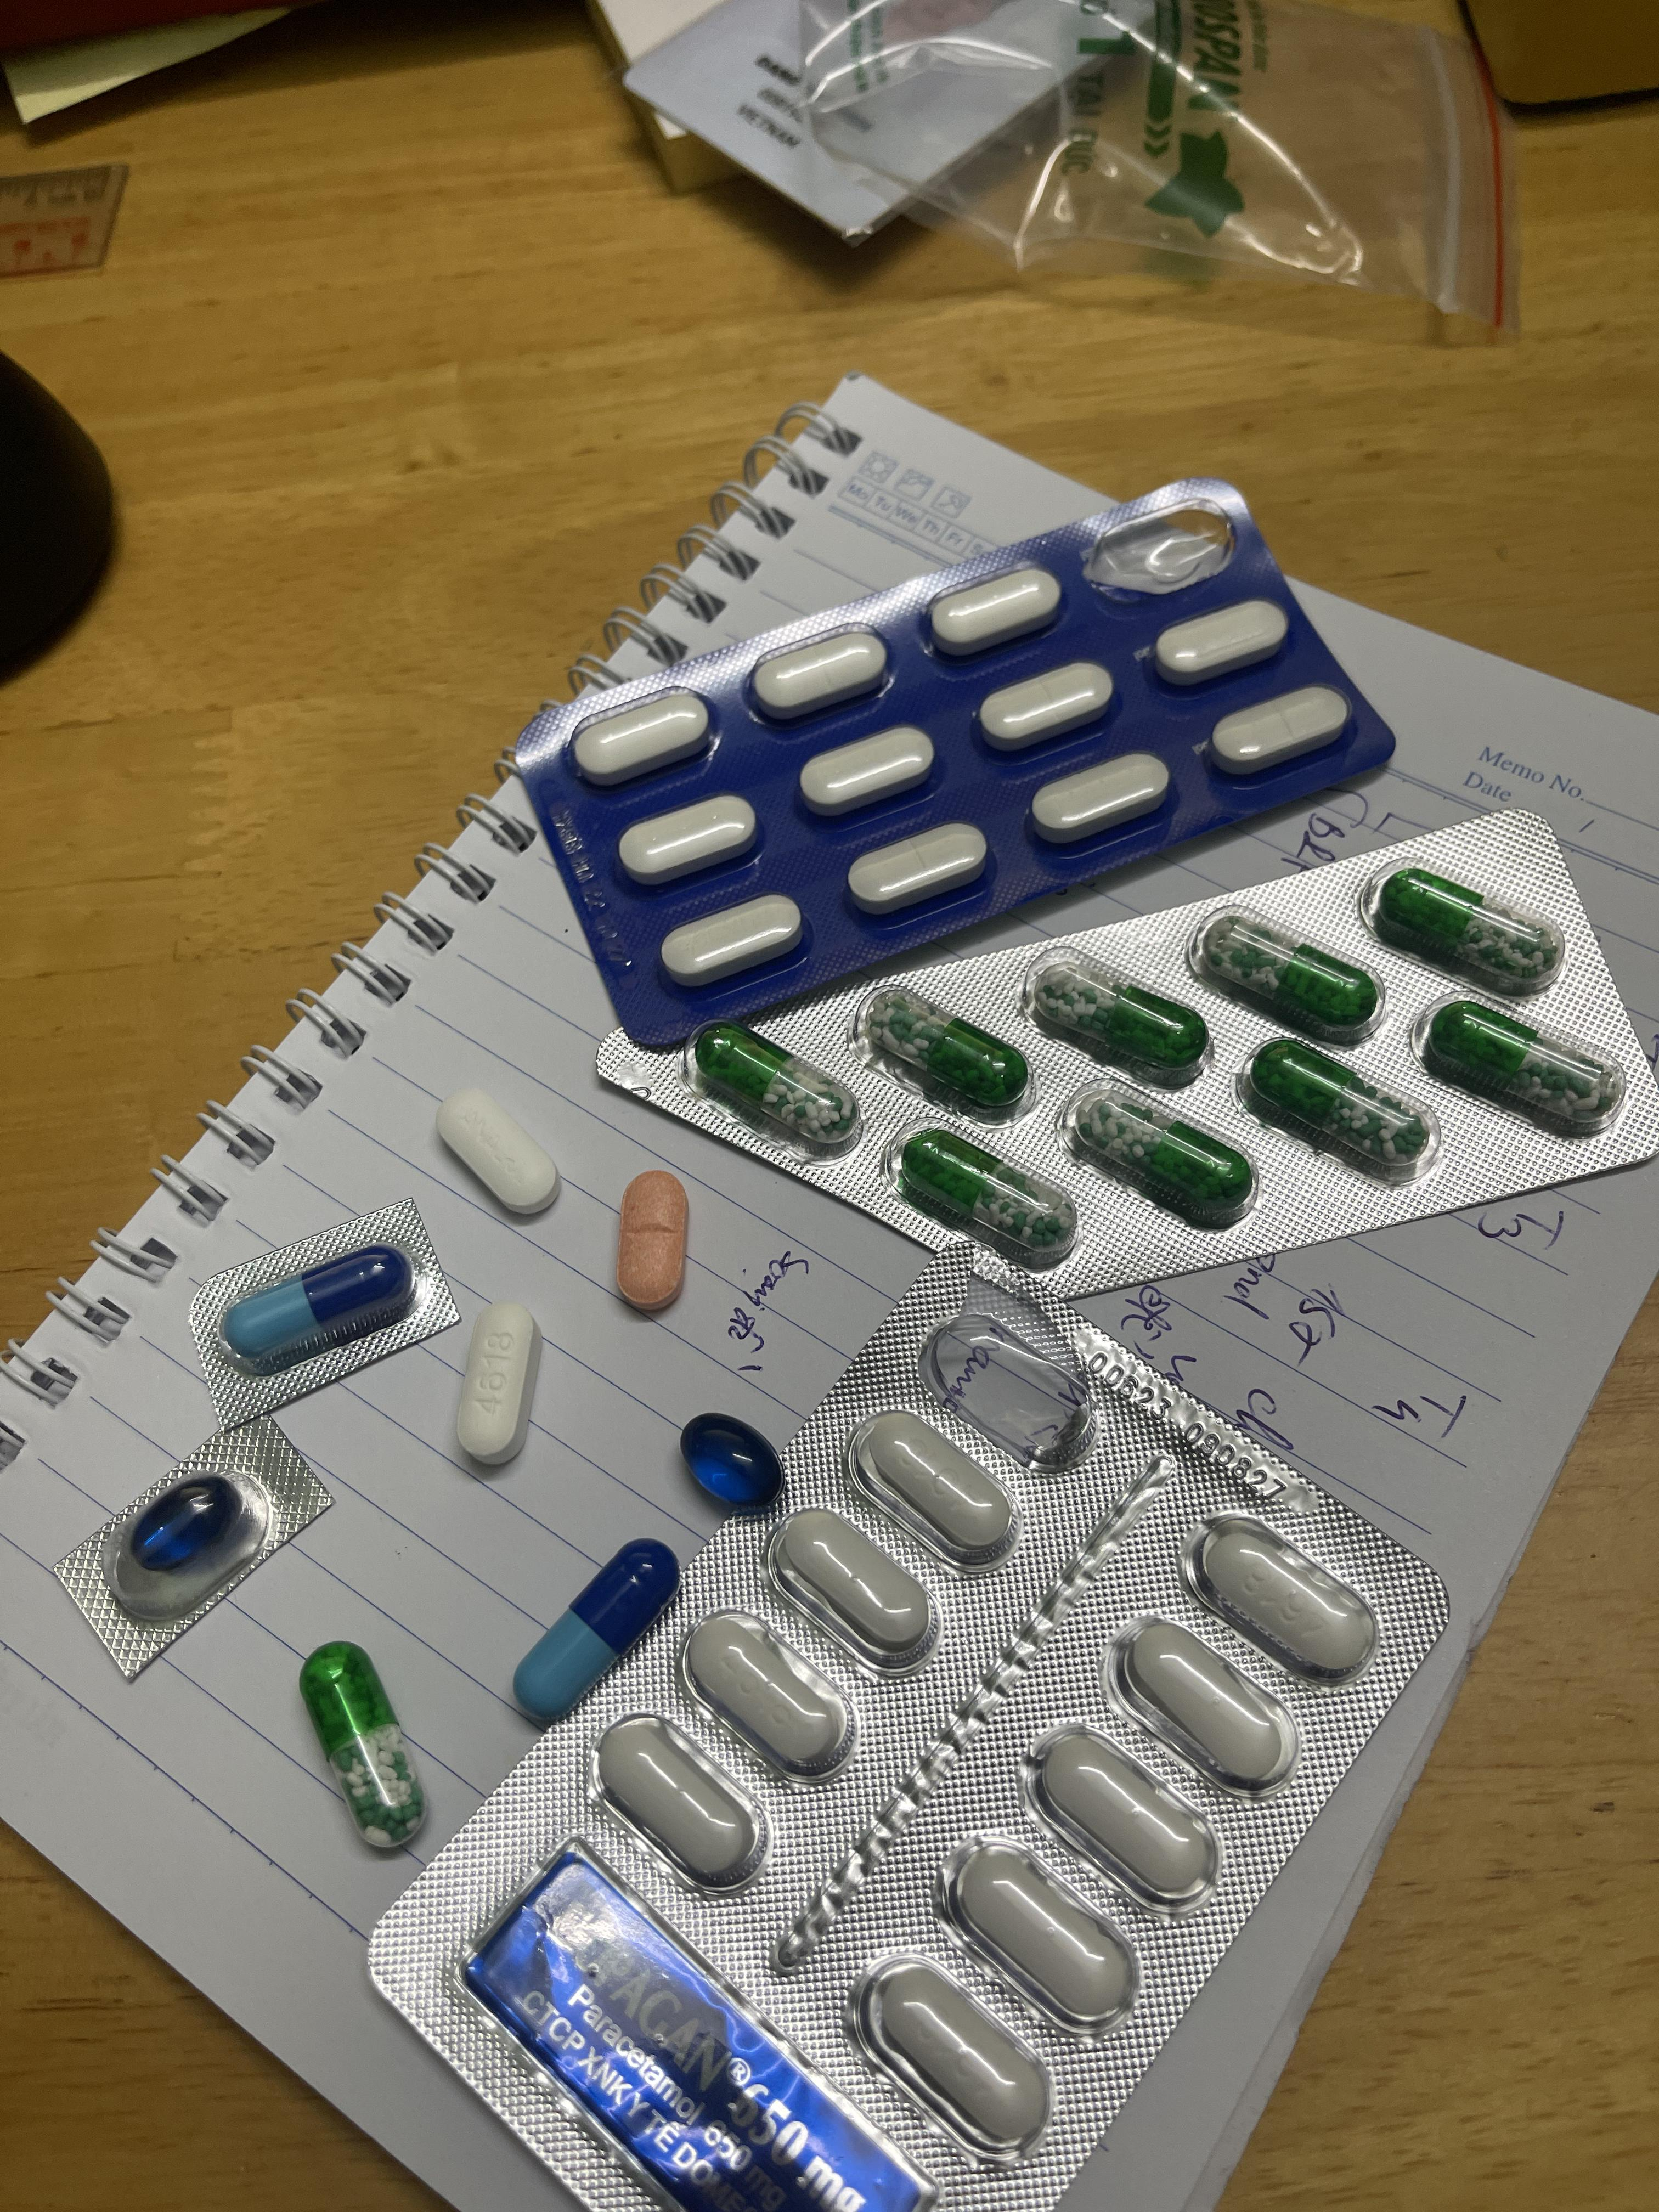Lincomyxin_500mg: (129, 1475, 242, 1573), (680, 1414, 782, 1514)
Loratadine_10mg: (617, 1170, 688, 1308)
Paracetamol_350mg: (432, 1089, 559, 1212), (1028, 752, 1173, 841), (1208, 685, 1351, 773), (622, 792, 762, 883), (800, 726, 938, 817), (927, 568, 1065, 657), (845, 826, 988, 911), (978, 662, 1117, 749), (660, 899, 802, 984), (572, 695, 708, 782), (749, 632, 884, 719), (1152, 601, 1291, 685)
Paracetamol_500mg: (856, 1956, 1063, 2158), (938, 1834, 1147, 2034), (1026, 1721, 1229, 1916), (1103, 1615, 1302, 1811), (1183, 1508, 1387, 1686), (685, 1606, 843, 1787), (770, 1514, 934, 1683), (603, 1717, 763, 1886), (856, 1407, 1023, 1568), (453, 1305, 538, 1460)
Paracetamol_650mg: (303, 1646, 425, 1848), (1427, 1001, 1614, 1120), (1255, 1042, 1427, 1167), (901, 1130, 1068, 1252), (1380, 869, 1558, 977), (1082, 1097, 1248, 1212), (694, 1028, 859, 1141), (1211, 923, 1377, 1029), (873, 998, 1028, 1108), (1040, 970, 1202, 1068)
pill: (509, 1541, 678, 1723), (223, 1247, 410, 1369)
